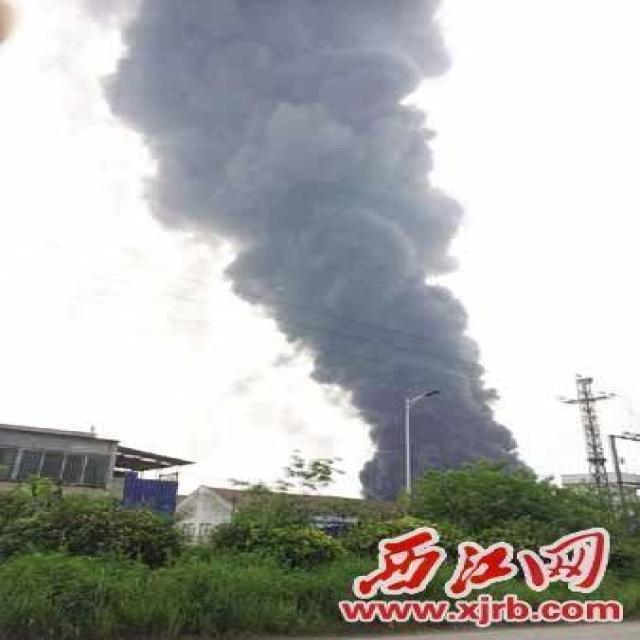Smoke: (89, 0, 540, 494)
